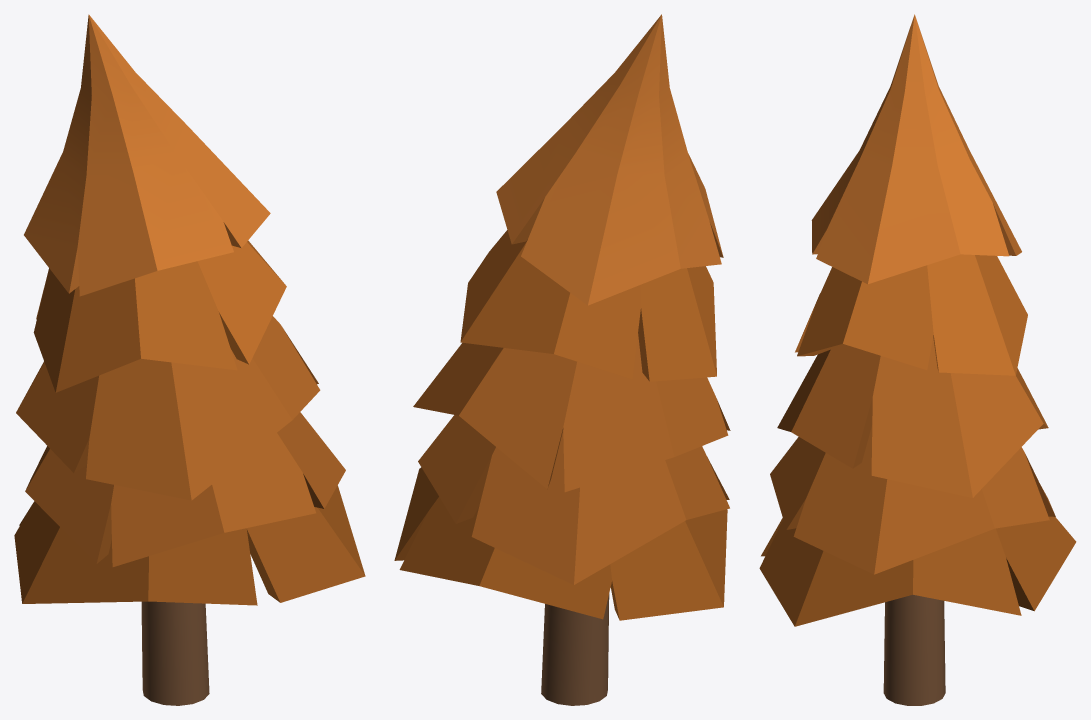
File: Spruce_Orange_2.fbx
3 views of the same model, side by side, from view 1: azimuth 30°, elevation 25°; view 2: azimuth 150°, elevation 25°; view 3: azimuth 270°, elevation 25° (orthographic). The views are drawn at different scales.
Parts seen in each view (by area): view 1: Cylinder.453, Cylinder.452, Cylinder.451, Cylinder.449, Cylinder.450, Cylinder.448; view 2: Cylinder.453, Cylinder.452, Cylinder.450, Cylinder.451, Cylinder.449, Cylinder.448; view 3: Cylinder.453, Cylinder.452, Cylinder.450, Cylinder.451, Cylinder.449, Cylinder.448.
Boxes of the visible parts, bbox=[...] form: Cylinder.453: bbox=[24, 14, 270, 296]; Cylinder.452: bbox=[16, 316, 320, 500]; Cylinder.451: bbox=[33, 240, 286, 392]; Cylinder.449: bbox=[14, 485, 365, 605]; Cylinder.450: bbox=[25, 412, 345, 566]; Cylinder.448: bbox=[141, 601, 209, 705]; Cylinder.453: bbox=[496, 14, 723, 305]; Cylinder.452: bbox=[413, 334, 730, 492]; Cylinder.450: bbox=[418, 415, 729, 584]; Cylinder.451: bbox=[460, 230, 716, 381]; Cylinder.449: bbox=[394, 467, 727, 620]; Cylinder.448: bbox=[541, 594, 609, 705]; Cylinder.453: bbox=[811, 14, 1021, 284]; Cylinder.452: bbox=[777, 337, 1048, 497]; Cylinder.450: bbox=[770, 425, 1055, 574]; Cylinder.451: bbox=[795, 254, 1027, 375]; Cylinder.449: bbox=[759, 516, 1076, 626]; Cylinder.448: bbox=[883, 595, 945, 705].
Bounding box in the file's own units: 262 × 568 × 255.
